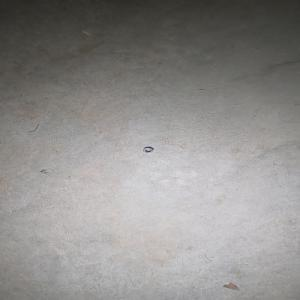Nut: (142, 146, 154, 153)
